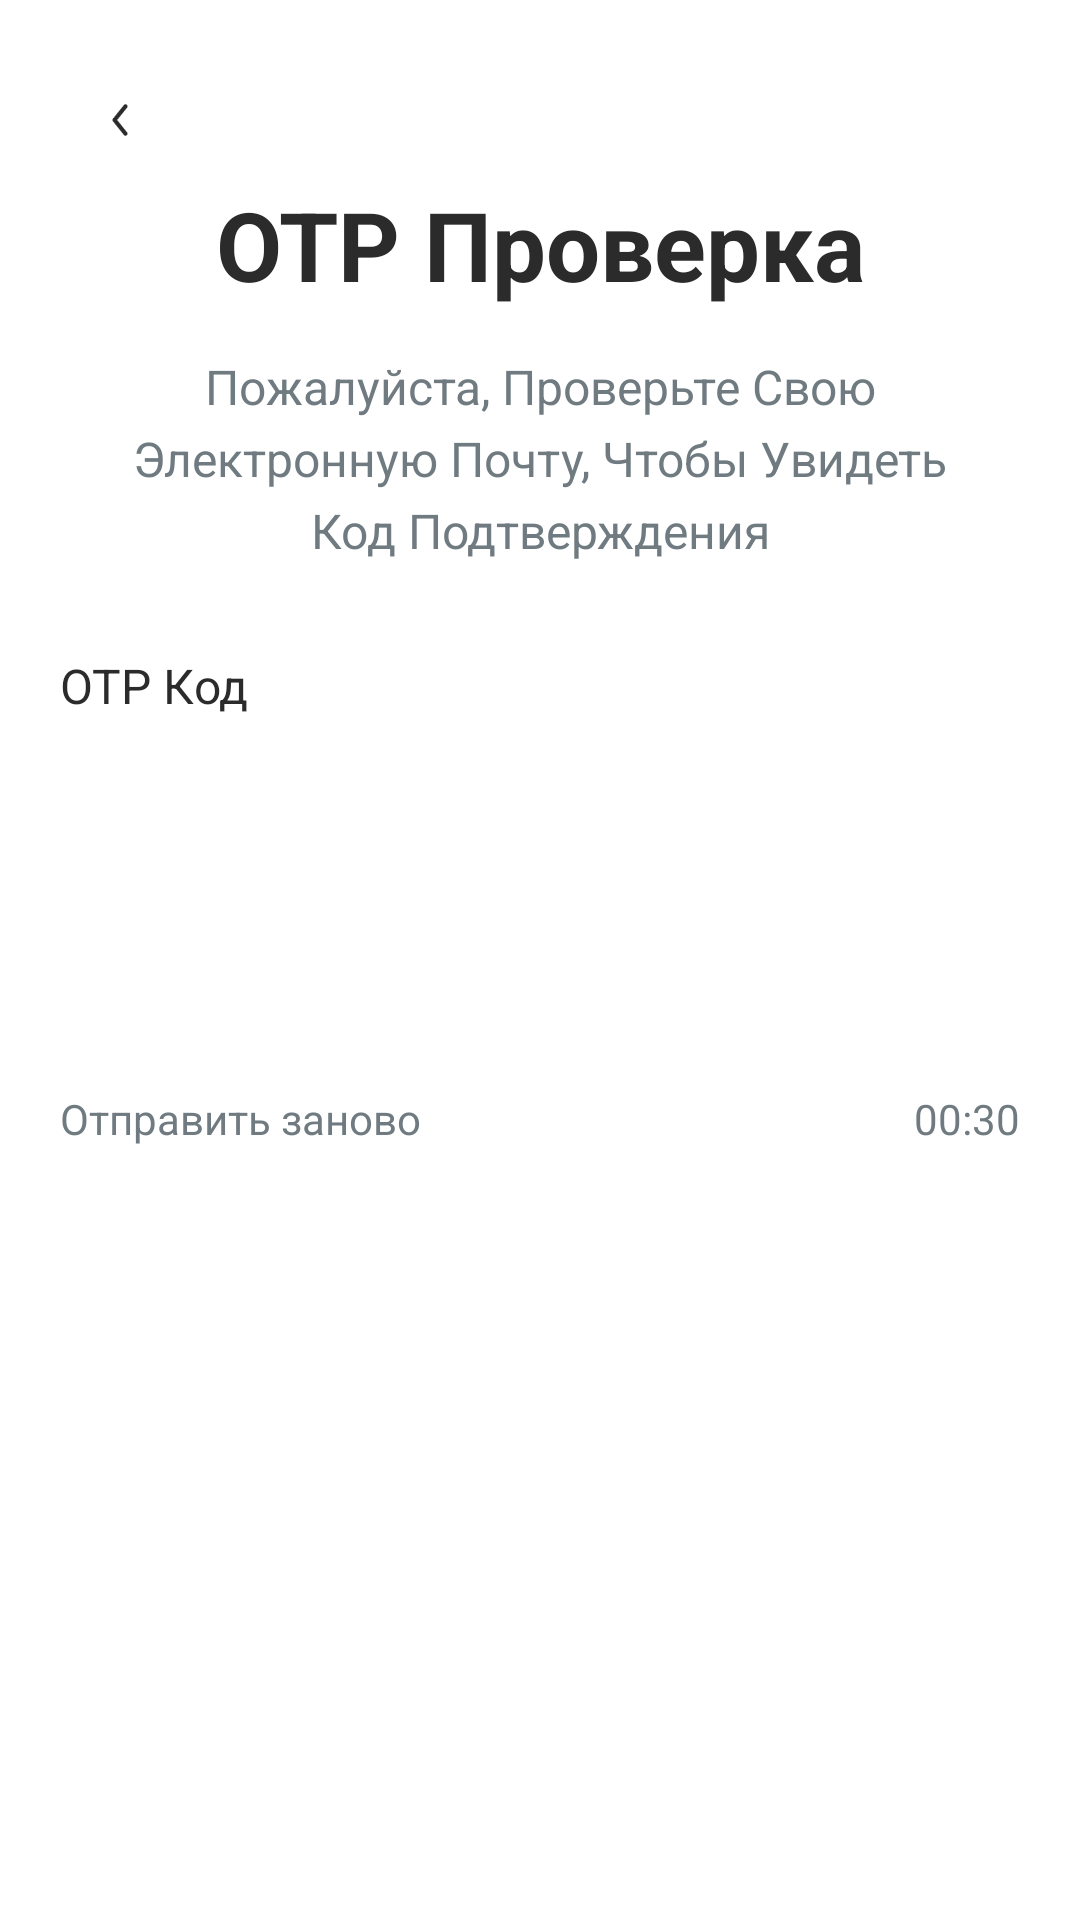

Where icons sit on this 1080w x 1920h app screen, as (x1, y1, x2, y2):
back: (112, 104, 128, 136)
